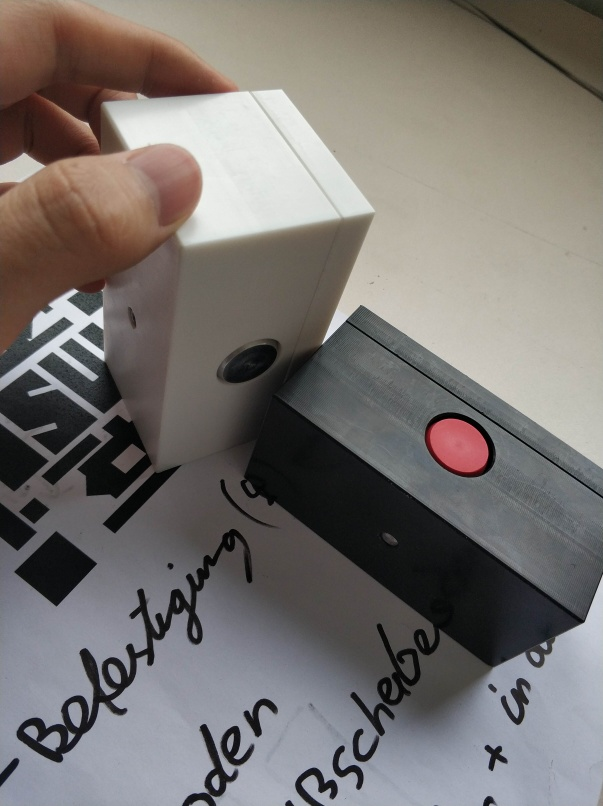black+black+red: (242, 302, 603, 673)
white+white+silver: (98, 85, 380, 477)
